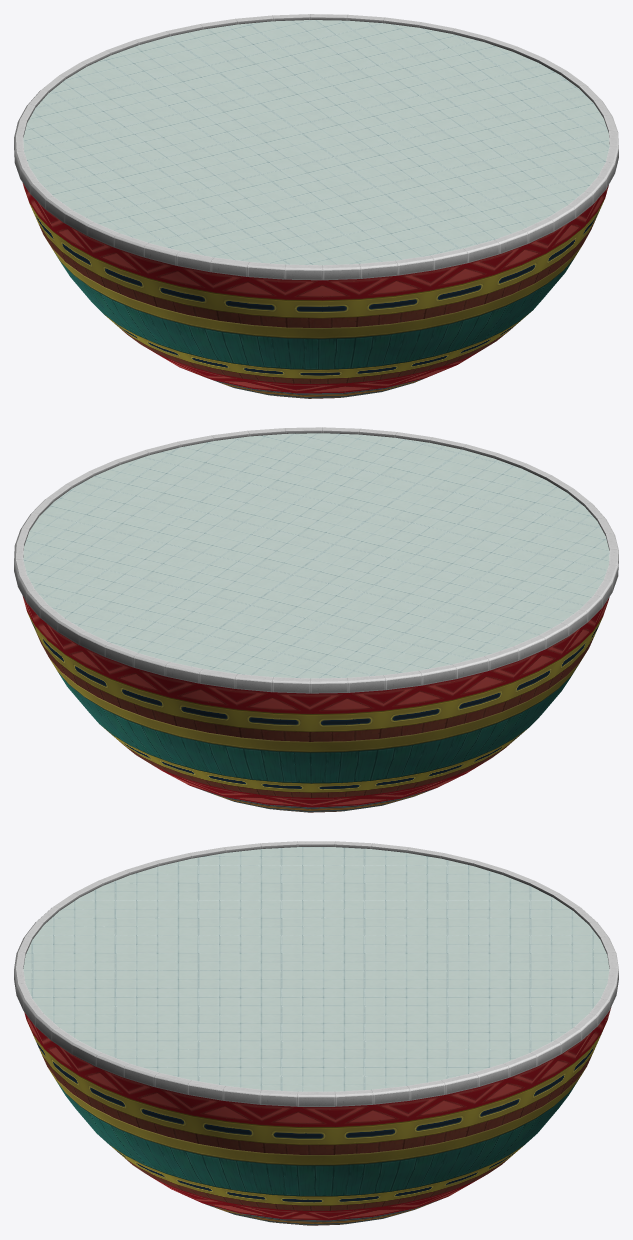
File: shendian_zhuchangdi.FBX
3 views of the same model, one above another, from view 1: azimuth 30°, elevation 25°; view 2: azimuth 150°, elevation 25°; view 3: azimuth 270°, elevation 25° (orthographic).
Visible parts, largest first — view 1: shendian_dizhuan, shendian_tiaowen1_1, shendian_tiaowen2, shendian_tiaowen4_1, shendian_tiaowen3; view 2: shendian_dizhuan, shendian_tiaowen1_1, shendian_tiaowen2, shendian_tiaowen4_1, shendian_tiaowen3; view 3: shendian_dizhuan, shendian_tiaowen1_1, shendian_tiaowen2, shendian_tiaowen4_1, shendian_tiaowen3.
Boxes of the visible parts, x1=… form: shendian_dizhuan: x1=23, y1=20, x2=609, y2=265; shendian_tiaowen1_1: x1=22, y1=183, x2=608, y2=393; shendian_tiaowen2: x1=47, y1=241, x2=581, y2=369; shendian_tiaowen4_1: x1=14, y1=14, x2=618, y2=280; shendian_tiaowen3: x1=195, y1=373, x2=423, y2=398; shendian_dizhuan: x1=23, y1=433, x2=609, y2=678; shendian_tiaowen1_1: x1=22, y1=596, x2=609, y2=807; shendian_tiaowen2: x1=49, y1=655, x2=584, y2=783; shendian_tiaowen4_1: x1=14, y1=427, x2=618, y2=693; shendian_tiaowen3: x1=192, y1=786, x2=435, y2=812; shendian_dizhuan: x1=23, y1=847, x2=609, y2=1091; shendian_tiaowen1_1: x1=24, y1=1007, x2=611, y2=1220; shendian_tiaowen2: x1=48, y1=1068, x2=585, y2=1196; shendian_tiaowen4_1: x1=14, y1=841, x2=618, y2=1106; shendian_tiaowen3: x1=204, y1=1197, x2=445, y2=1225.
Bounding box in the file's own units: 9803 × 4613 × 9823.
